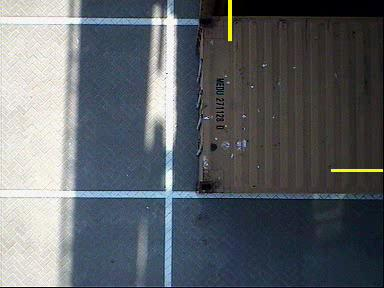groundmarker_2: (146, 84, 197, 123), (146, 227, 197, 266)
